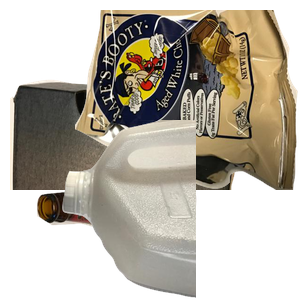cardboard: (10, 77, 245, 257)
glass: (34, 170, 223, 300)
plastic: (60, 120, 300, 300)
trash: (75, 10, 300, 190)
